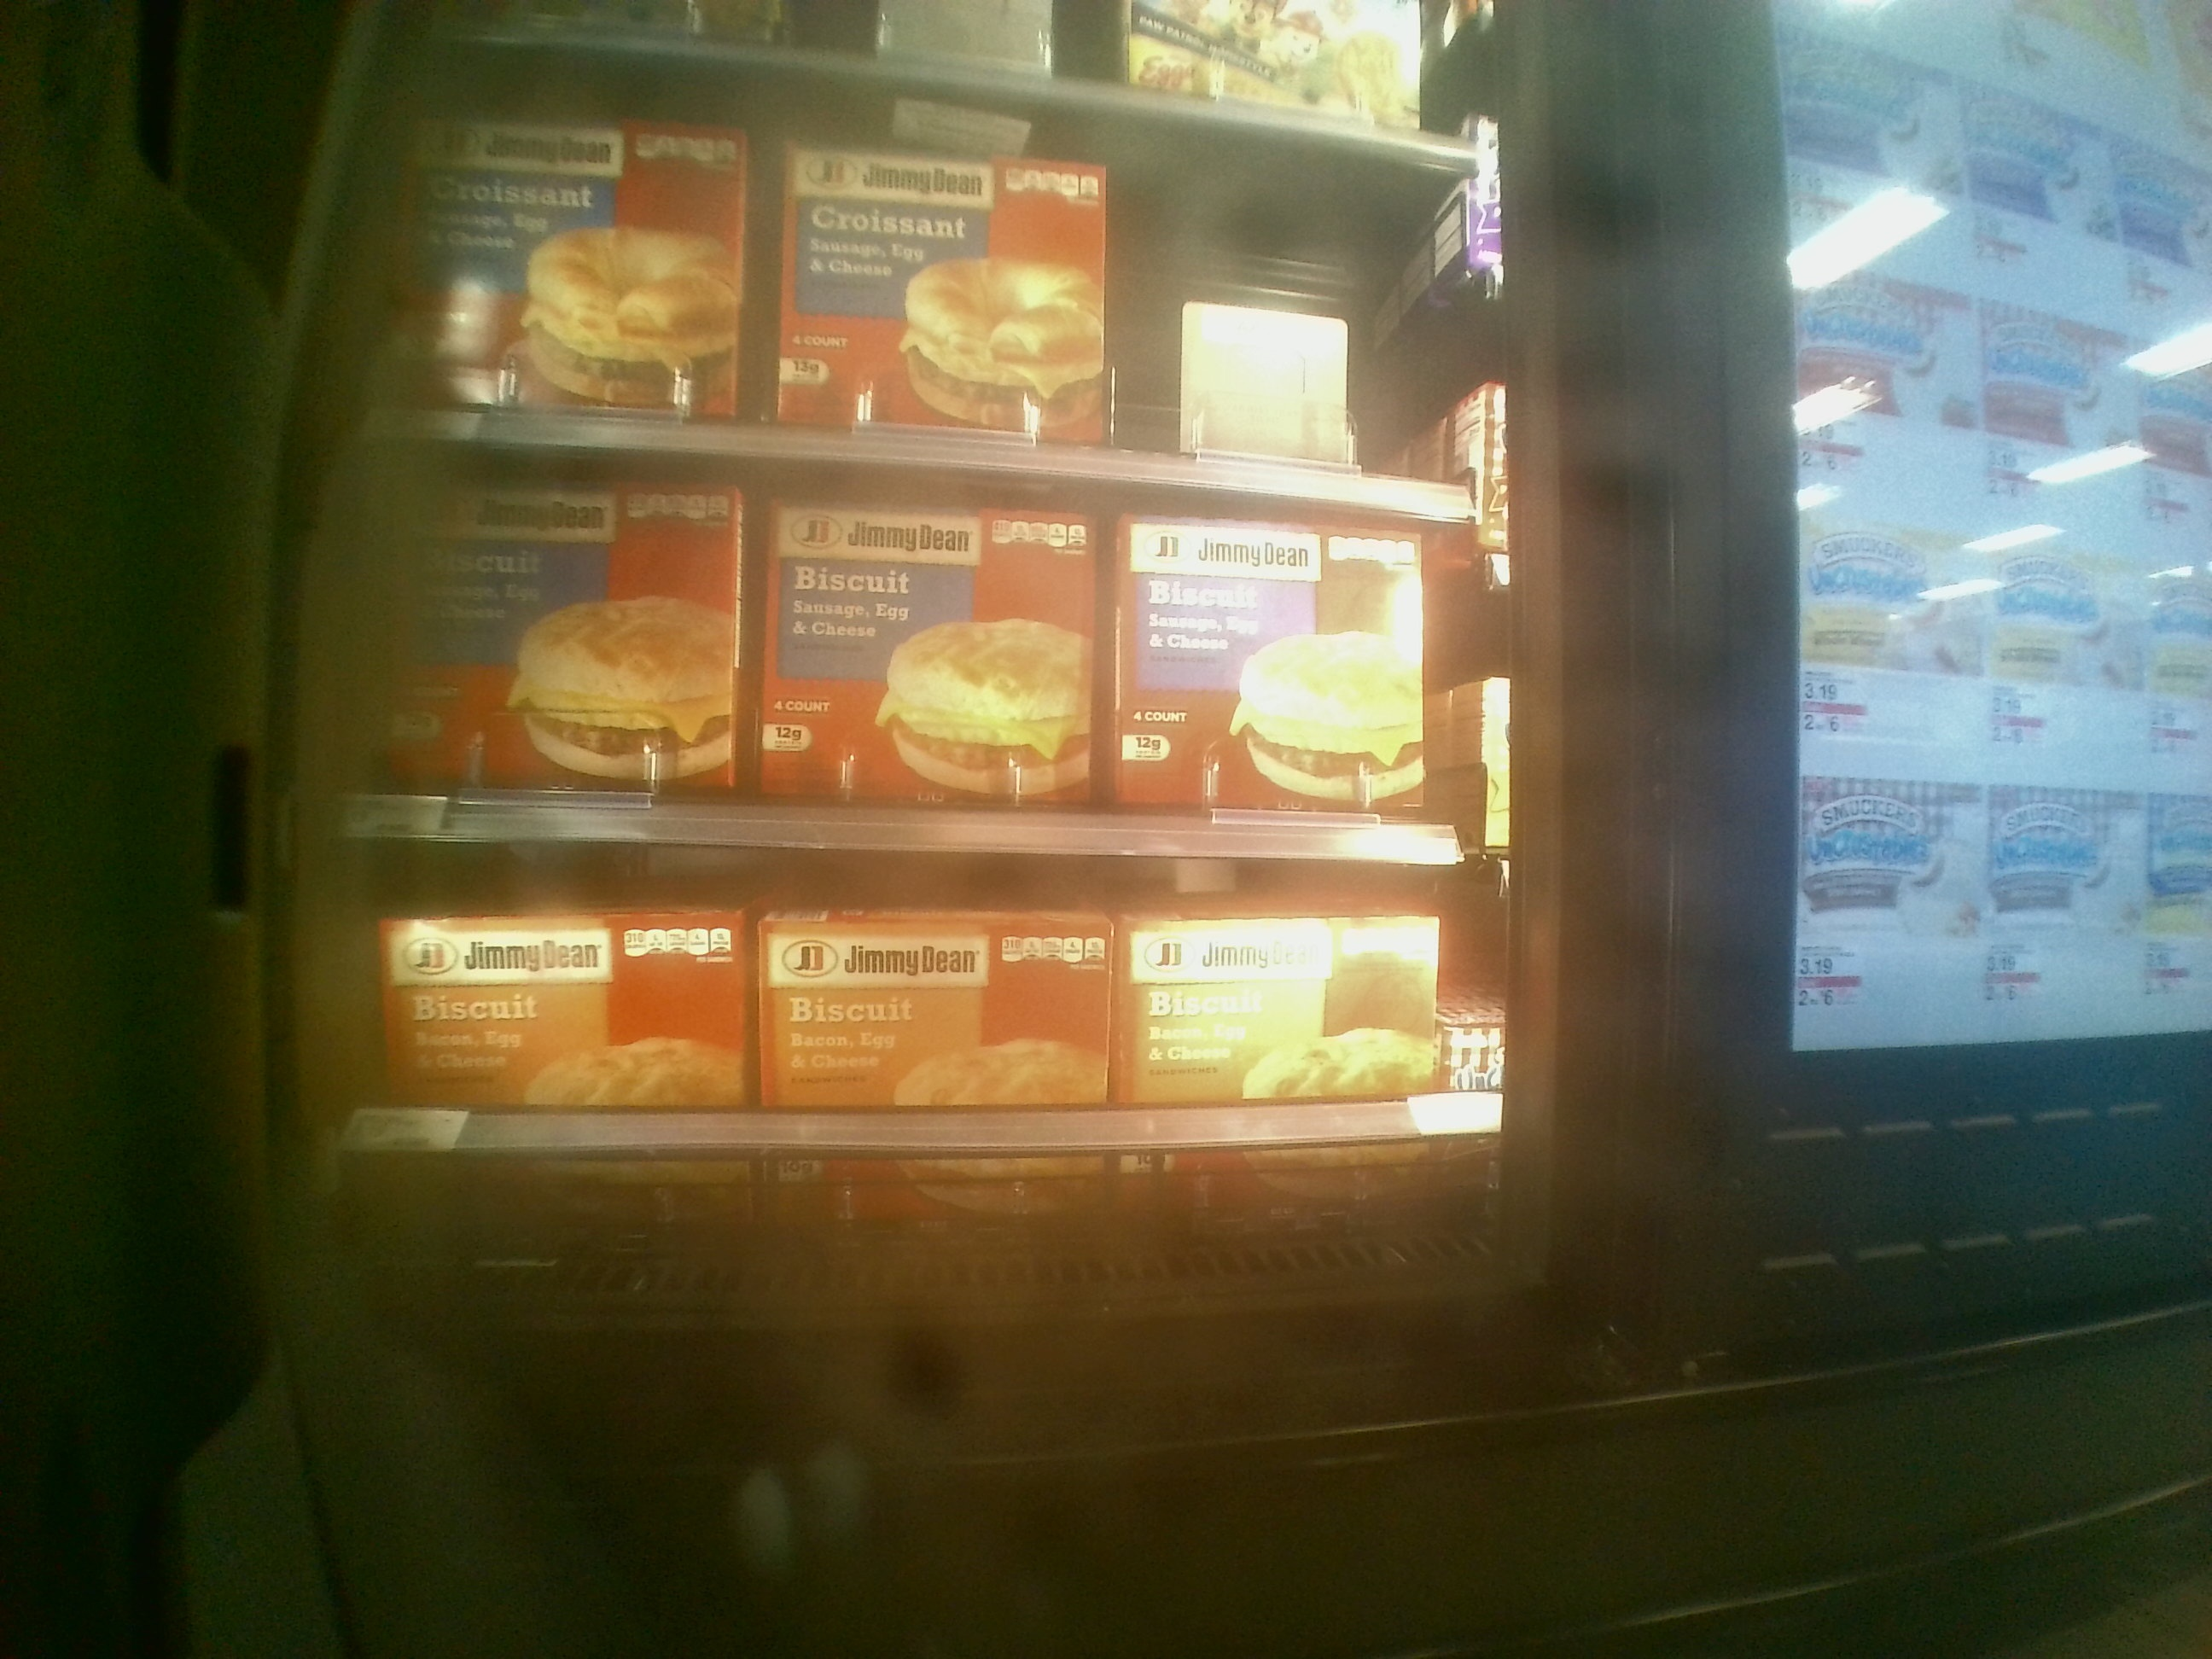shelf: (324, 833, 1559, 1168)
